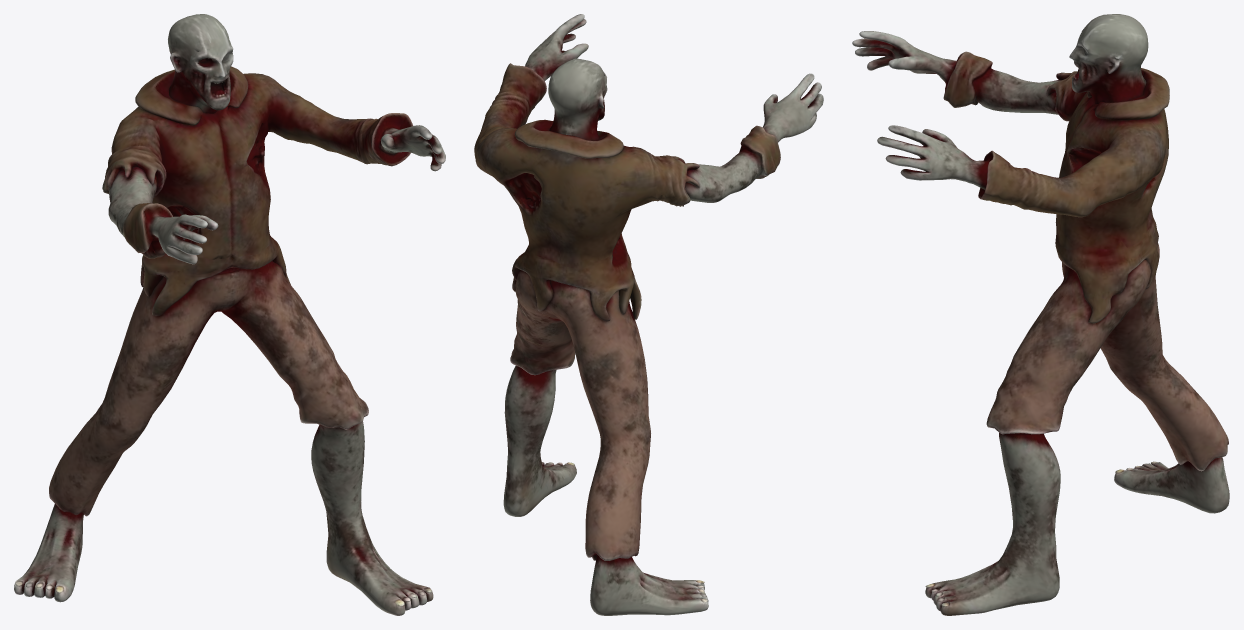
Rendered from MZ4250 - Zombie.glb.
The picture shows the model from 3 angles, left to right: view 1: azimuth 30°, elevation 25°; view 2: azimuth 150°, elevation 25°; view 3: azimuth 270°, elevation 25°; orthographic projection. The views are drawn at different scales.
Parts seen in each view (by area): view 1: Zombie Head Repaired.001; view 2: Zombie Head Repaired.001; view 3: Zombie Head Repaired.001.
Boxes of the visible parts, x1,y1,x2,y2 form: Zombie Head Repaired.001: (14, 14, 445, 615); Zombie Head Repaired.001: (474, 14, 823, 615); Zombie Head Repaired.001: (852, 14, 1229, 615).
Size of the model in its own units: 0.5095 by 0.8567 by 0.5484.
Materials: 1 (1 with a texture image).
